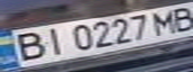0: (66, 21, 93, 52)
2: (109, 16, 136, 46), (90, 18, 115, 50)
7: (127, 11, 154, 42)
B: (6, 29, 51, 62), (166, 3, 193, 33)
I: (36, 25, 69, 56)
M: (148, 7, 184, 36)
